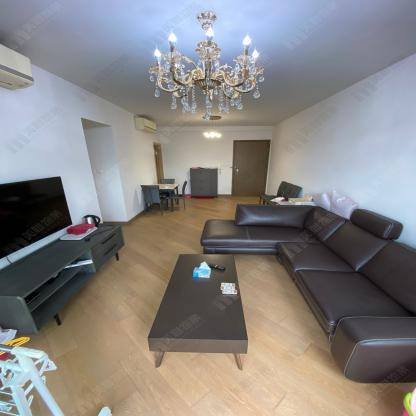AC: (0, 43, 35, 90)
Sofa: (199, 204, 416, 385)
TV: (0, 175, 73, 259)
